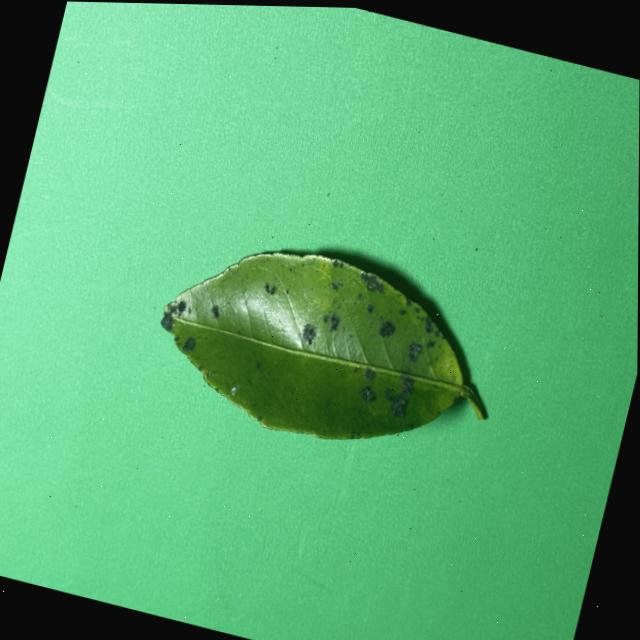sooty_mold: (159, 253, 482, 438)
